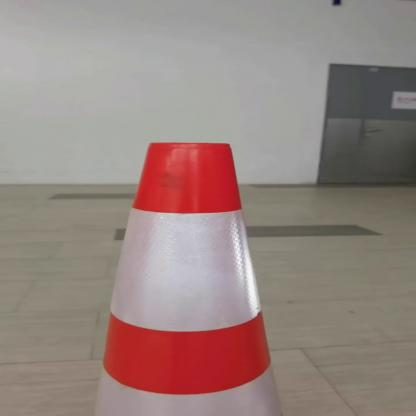cone: (74, 135, 306, 416)
